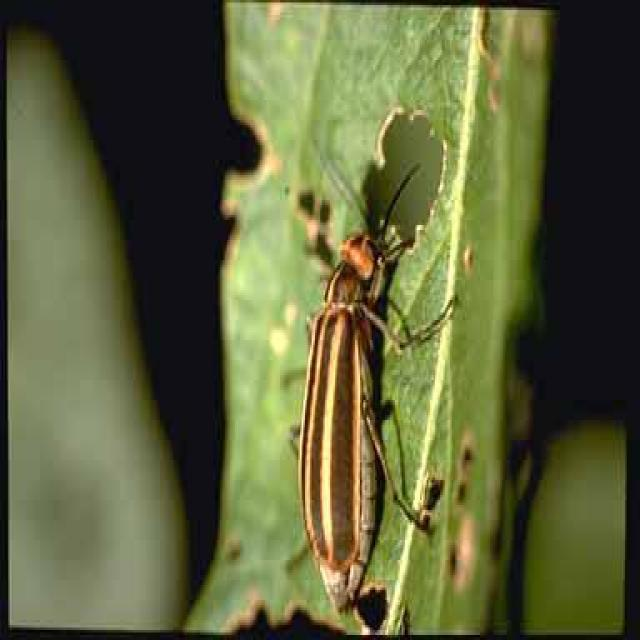BlisterBeetle-Adult-: (295, 167, 441, 611)
